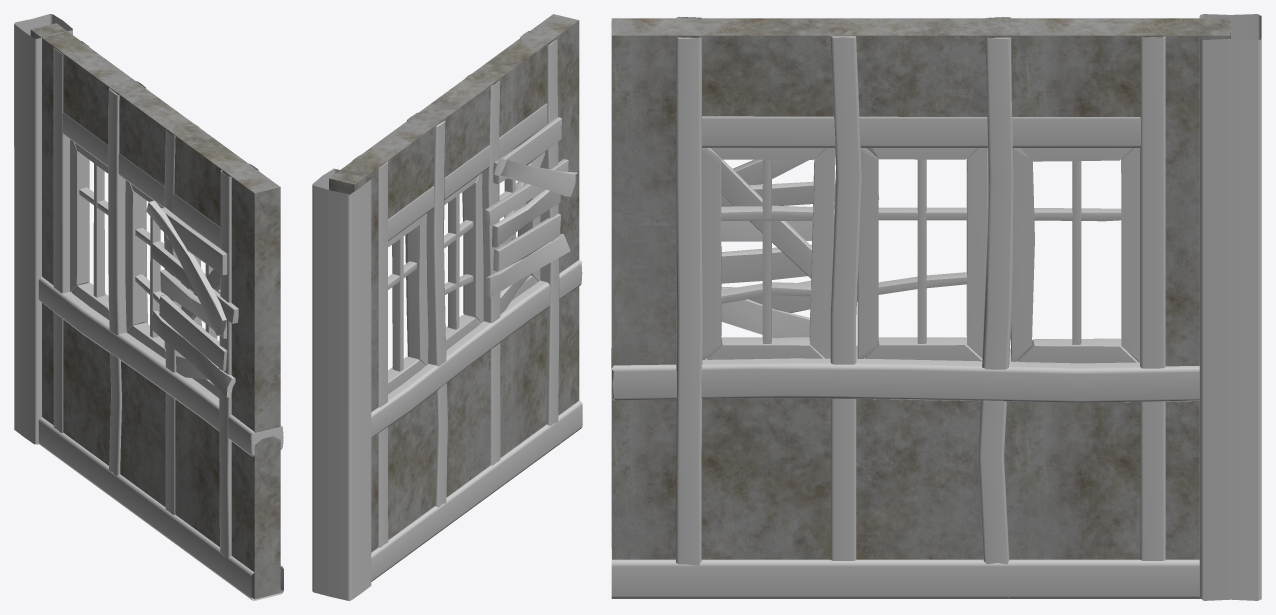
File: SM_WallWindowLarge04.fbx
3 views of the same model, side by side, from view 1: azimuth 30°, elevation 25°; view 2: azimuth 150°, elevation 25°; view 3: azimuth 270°, elevation 25° (orthographic). The views are drawn at different scales.
Visible parts, largest first — view 1: SM_WallWindowLarge04_LOD0; view 2: SM_WallWindowLarge04_LOD0; view 3: SM_WallWindowLarge04_LOD0.
Part boxes in pixels (x1,y1,x2,y2): SM_WallWindowLarge04_LOD0: [14, 14, 283, 600]; SM_WallWindowLarge04_LOD0: [312, 14, 582, 600]; SM_WallWindowLarge04_LOD0: [611, 14, 1261, 600].
Size of the model in its own units: 38.11 by 315 by 302.
